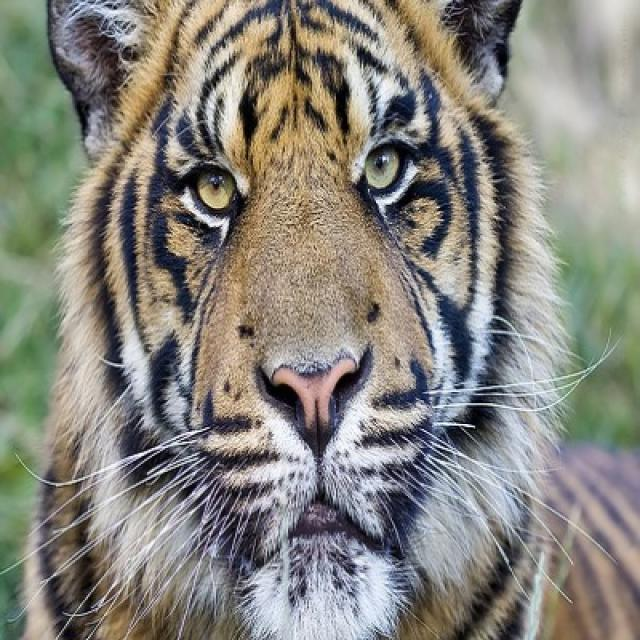Tiger: (27, 2, 638, 638)
